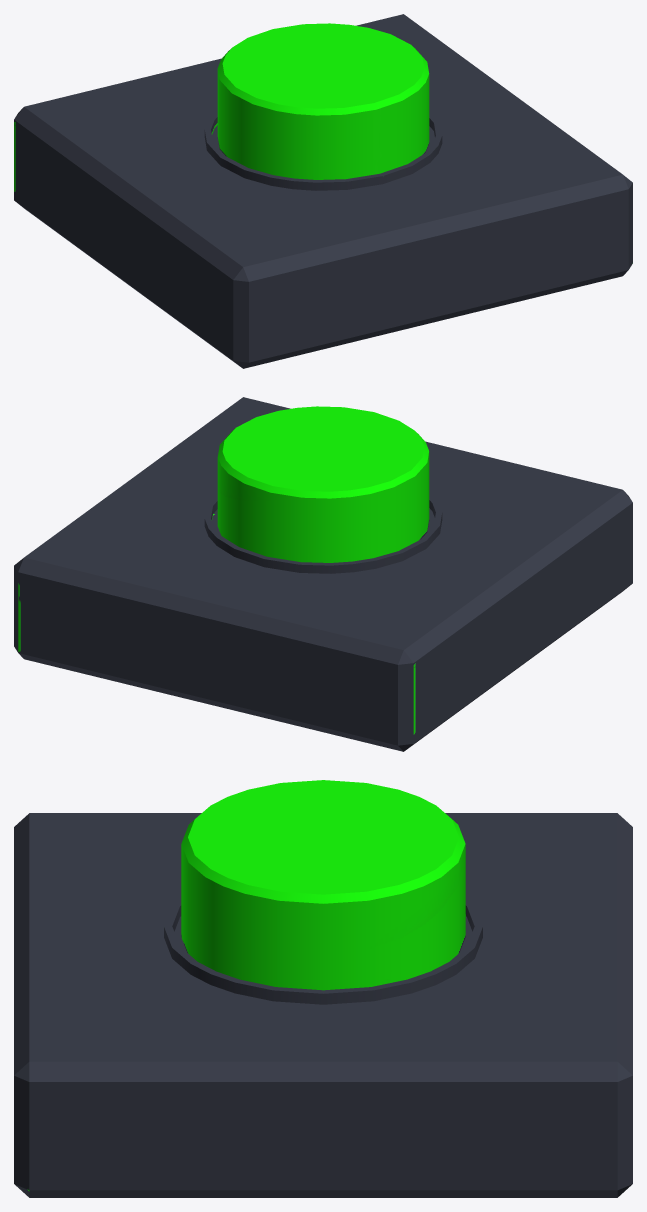
Rendered from button.glb.
3 renders of one model, top to bottom at view 1: azimuth 30°, elevation 25°; view 2: azimuth 150°, elevation 25°; view 3: azimuth 270°, elevation 25°, orthographic. The views are drawn at different scales.
Visible parts, largest first — view 1: Cube; view 2: Cube; view 3: Cube.
Part boxes in pixels (box(x1,y1,x2,y2)): Cube: box(14, 14, 632, 368); Cube: box(14, 397, 632, 751); Cube: box(14, 780, 632, 1197).
Size of the model in its own units: 2 by 0.8426 by 2.
1 material, 1 textured.
